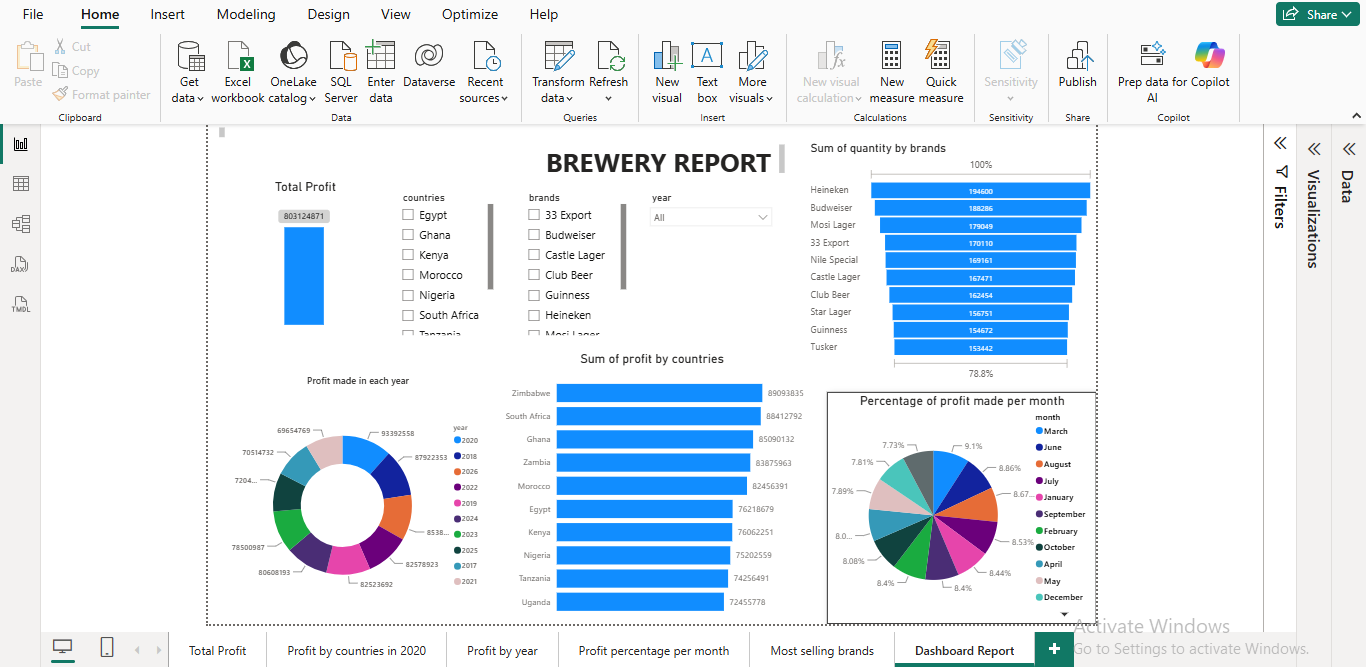

The dashboard page shown, as its layout file describes it:
{"tool":"powerbi","page":{"name":"Page 6","canvas":[1280,720],"ordinal":5},"visuals":[{"type":"textbox","box":[10.1,0,18.7,24.5],"z":0},{"type":"textbox","box":[482.1,25.2,352.8,55.4],"z":1000},{"type":"columnChart","title":"Total Profit","fields":{"Y":["Sum(brewery.profit)"]},"box":[28.8,79.2,223.2,216],"z":2000},{"type":"clusteredBarChart","fields":{"Category":["brewery.countries"],"Y":["Sum(brewery.profit)"]},"box":[416.6,327.6,446.8,393.1],"z":3000},{"type":"donutChart","title":"Profit made in each year","fields":{"Category":["brewery.year"],"Y":["Sum(brewery.profit)"]},"box":[28.6,359.5,374.6,361.2],"z":4000},{"type":"pieChart","title":"Percentage of profit made per month","fields":{"Category":["brewery.month"],"Y":["Sum(brewery.profit)"]},"box":[892,386.4,388,334.3],"z":5000},{"type":"funnel","fields":{"Category":["brewery.brands"],"Y":["Sum(brewery.quantity)"]},"box":[862.1,24.9,417.9,349],"z":6000},{"type":"slicer","fields":{"Values":["brewery.countries"]},"box":[267.8,92.2,148.3,217.4],"z":7000},{"type":"slicer","fields":{"Values":["brewery.brands"]},"box":[449.3,92.2,158.4,217.4],"z":8000},{"type":"slicer","fields":{"Values":["brewery.year"]},"box":[626.4,92.2,195.8,216],"z":9000}]}

Visuals, with their boxes on the page's 1280x720 design canvas (x1, y1, x2, y2). These are canvas units, not pixel positions in the 1366x667 screenshot, which may show the page scaled, cropped or inside an application window:
textbox: <region>10, 0, 29, 24</region>
textbox: <region>482, 25, 835, 81</region>
"Total Profit" columnChart: <region>29, 79, 252, 295</region>
clusteredBarChart - brewery.countries x Sum(brewery.profit): <region>417, 328, 863, 721</region>
"Profit made in each year" donutChart: <region>29, 360, 403, 721</region>
"Percentage of profit made per month" pieChart: <region>892, 386, 1280, 721</region>
funnel - brewery.brands x Sum(brewery.quantity): <region>862, 25, 1280, 374</region>
slicer - brewery.countries: <region>268, 92, 416, 310</region>
slicer - brewery.brands: <region>449, 92, 608, 310</region>
slicer - brewery.year: <region>626, 92, 822, 308</region>
